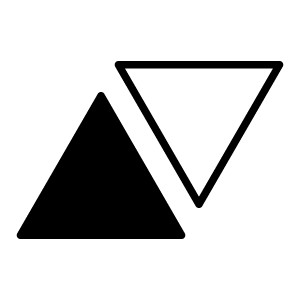triangulo: (114, 61, 284, 208), (17, 92, 186, 239)
